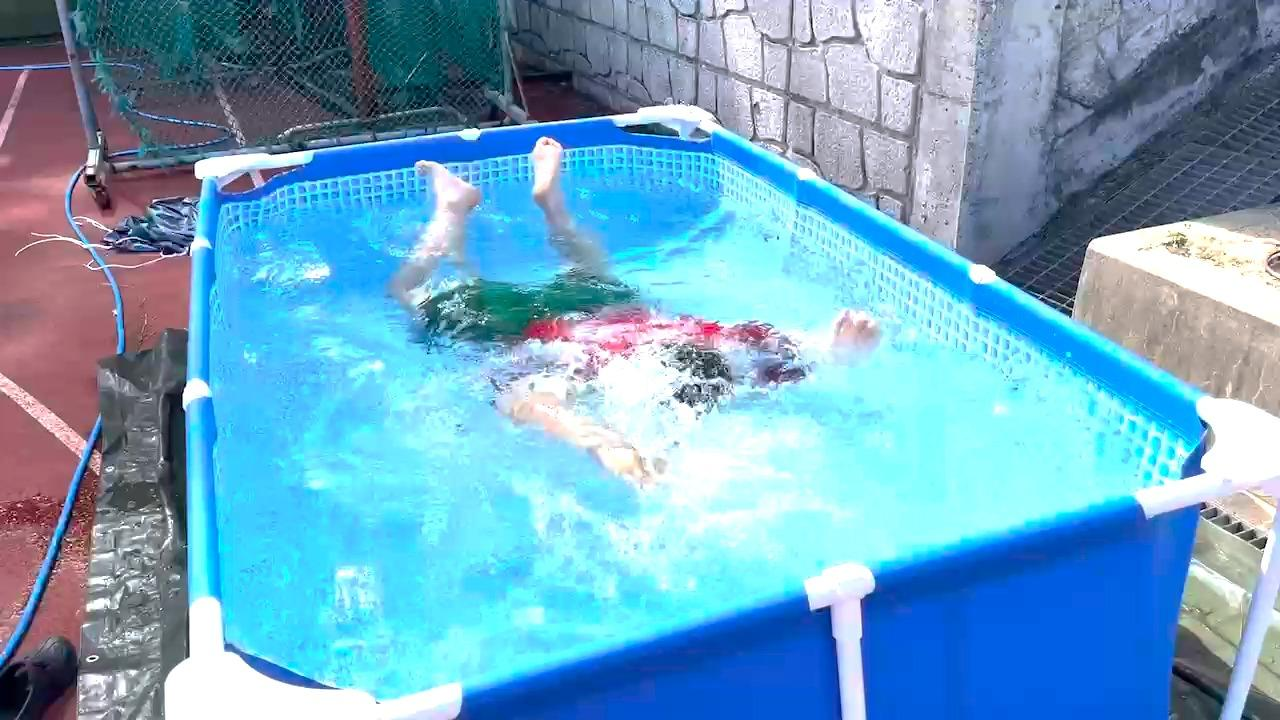Drowning: (403, 187, 895, 514)
